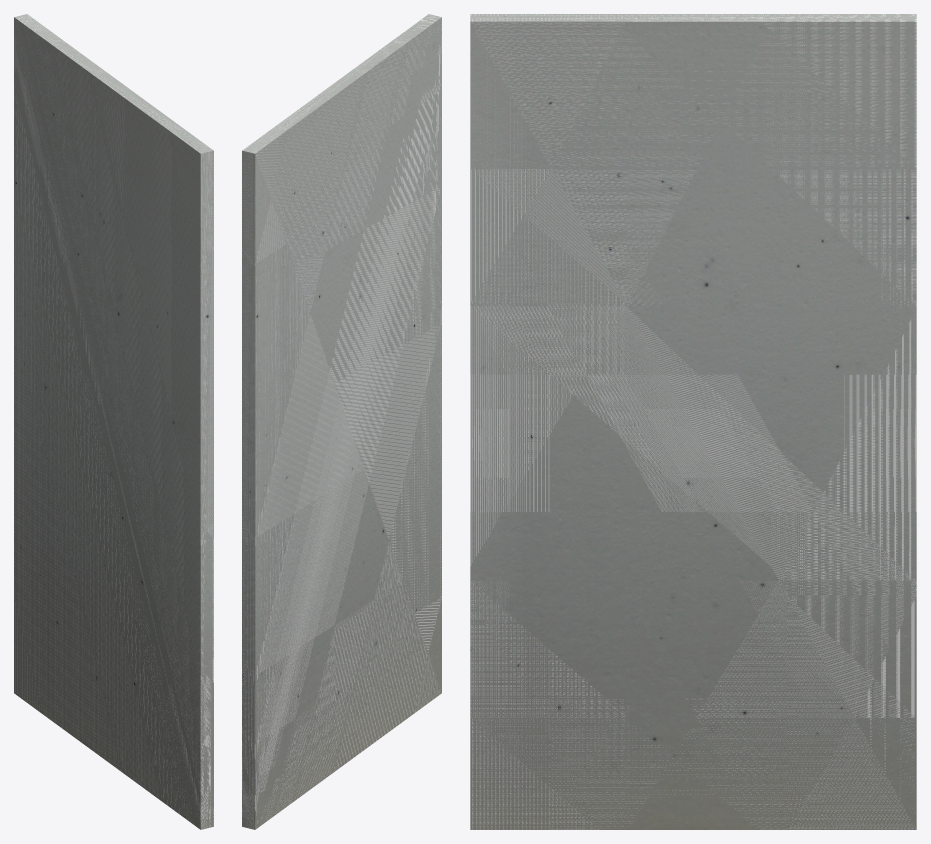
File: polystyrene.dae
3 renders of one model, left to right at view 1: azimuth 30°, elevation 25°; view 2: azimuth 150°, elevation 25°; view 3: azimuth 270°, elevation 25°, orthographic. The views are drawn at different scales.
Visible parts, largest first — view 1: SketchUp; view 2: SketchUp; view 3: SketchUp.
Part boxes in pixels (left/top/right/bottom): SketchUp: left=14, top=14, right=213, bottom=829; SketchUp: left=242, top=14, right=441, bottom=829; SketchUp: left=470, top=14, right=916, bottom=829.
Size of the model in its own units: 0.0203 by 0.5005 by 1.
Materials: 2 (1 with a texture image).
